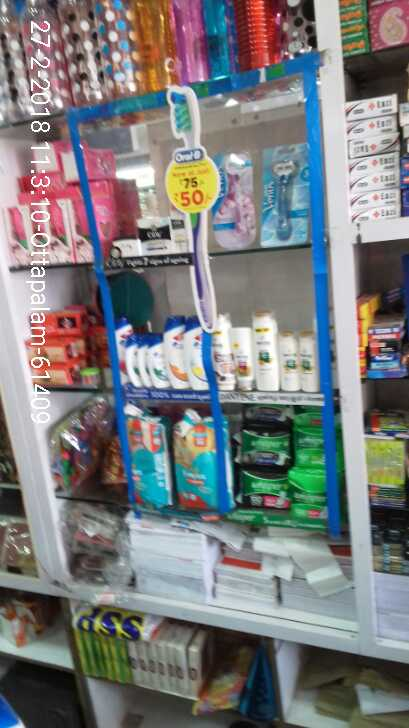venus: (261, 140, 307, 245), (213, 155, 256, 241)
